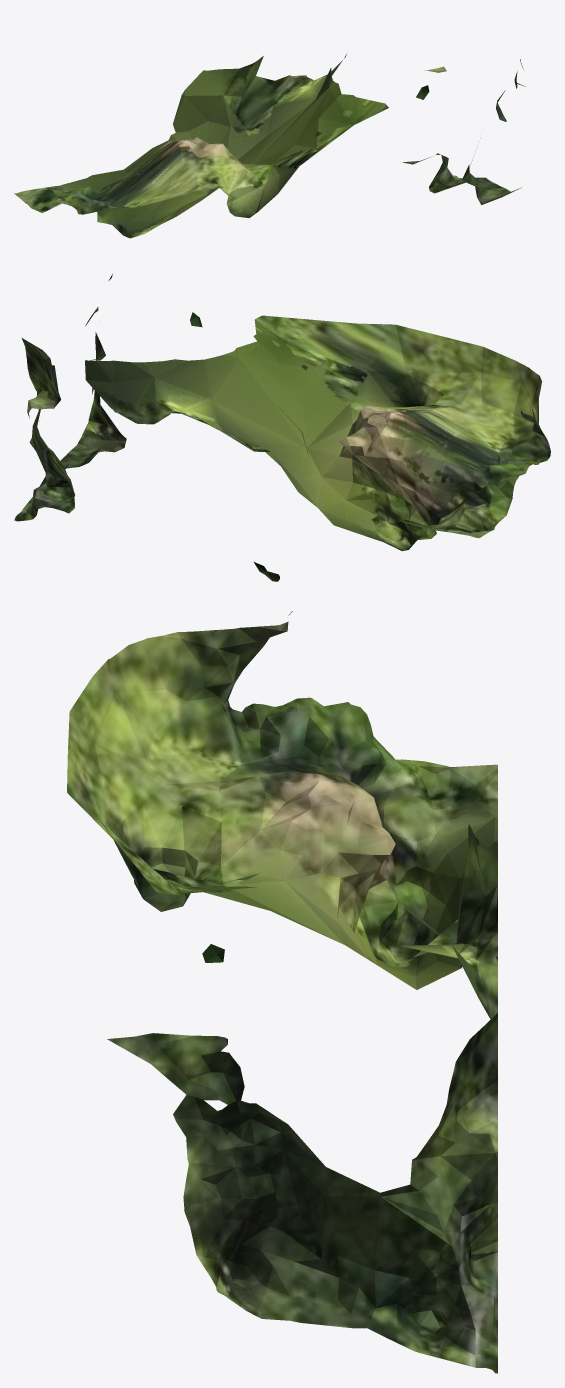
3 renders of one model, top to bottom at view 1: azimuth 30°, elevation 25°; view 2: azimuth 150°, elevation 25°; view 3: azimuth 270°, elevation 25°, orthographic. The views are drawn at different scales.
Size of the model in its own units: 26.11 by 9.52 by 11.1.
2 materials, 2 textured.
